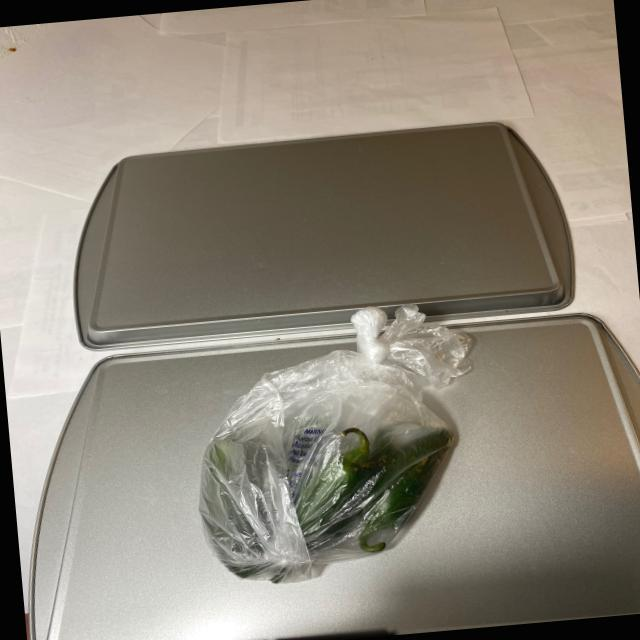chilli: (184, 386, 474, 586)
